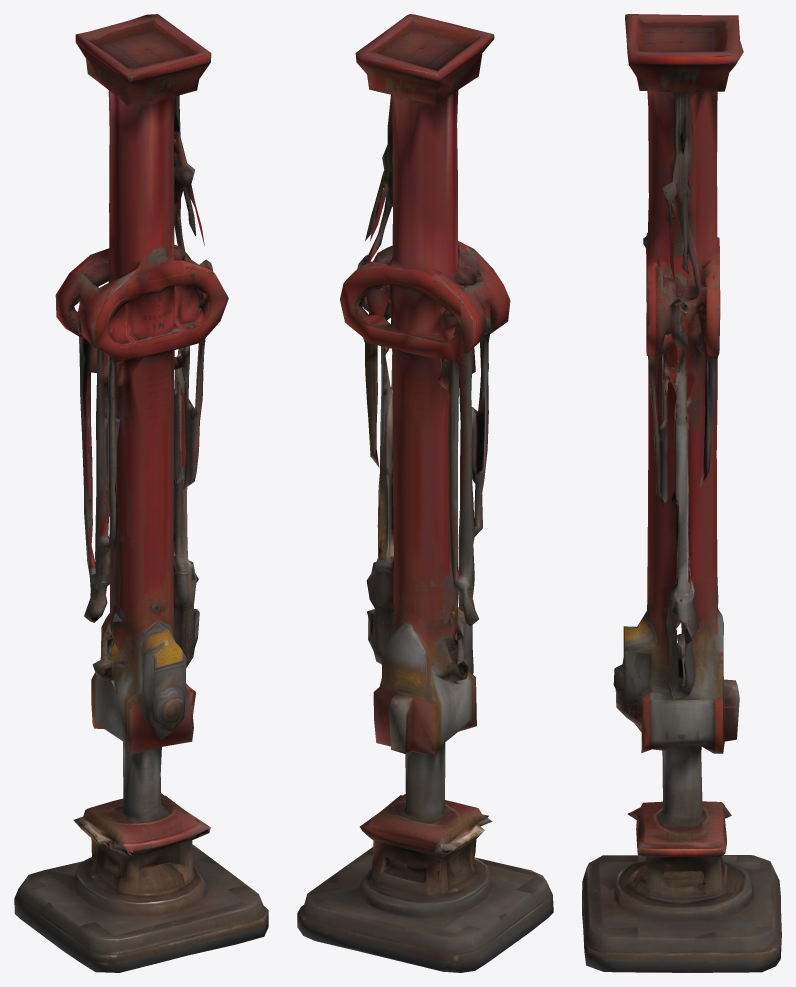
Rendered from HerramientaRoja.fbx.
3 renders of one model, left to right at view 1: azimuth 30°, elevation 25°; view 2: azimuth 150°, elevation 25°; view 3: azimuth 270°, elevation 25°, orthographic. The views are drawn at different scales.
Parts seen in each view (by area): view 1: input; view 2: input; view 3: input.
Part boxes in pixels (bbox=[...]): input: bbox=[14, 14, 268, 972]; input: bbox=[297, 14, 553, 972]; input: bbox=[582, 14, 781, 972].
Bounding box in the file's own units: 43.9 × 201 × 40.55.
1 material, 1 textured.
